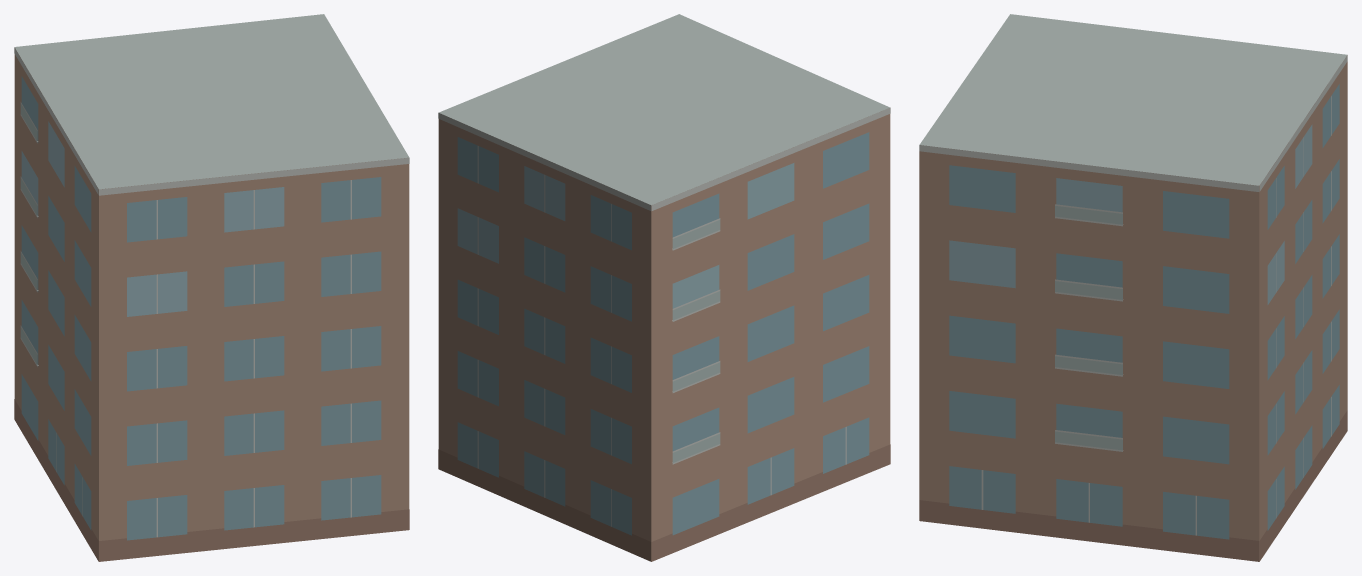
Rendered from survey-upis-32880775.glb.
3 renders of one model, left to right at view 1: azimuth 30°, elevation 25°; view 2: azimuth 150°, elevation 25°; view 3: azimuth 270°, elevation 25°, orthographic. The views are drawn at different scales.
Visible parts, largest first — view 1: survey-upis-32880775.tmp; view 2: survey-upis-32880775.tmp; view 3: survey-upis-32880775.tmp.
Boxes of the visible parts, x1,y1,x2,y2 form: survey-upis-32880775.tmp: (14,14,409,561); survey-upis-32880775.tmp: (438,14,890,561); survey-upis-32880775.tmp: (919,14,1347,561).
Bounding box in the file's own units: 14.12 × 14.4 × 14.87.
